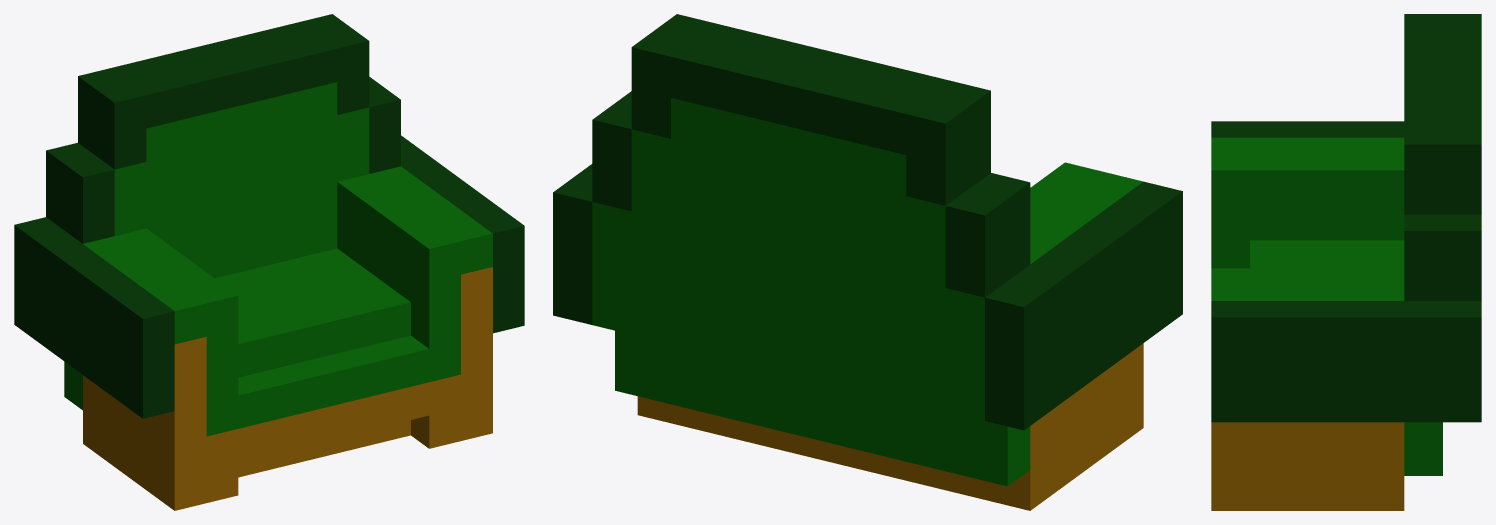
The model's file is Bank furnitures-2.obj.
3 renders of one model, left to right at view 1: azimuth 30°, elevation 25°; view 2: azimuth 150°, elevation 25°; view 3: azimuth 270°, elevation 25°, orthographic. The views are drawn at different scales.
Parts seen in each view (by area): view 1: Bank furnitures-2; view 2: Bank furnitures-2; view 3: Bank furnitures-2.
Part boxes in pixels (<box>): Bank furnitures-2: <box>14,14,524,510</box>; Bank furnitures-2: <box>553,14,1182,510</box>; Bank furnitures-2: <box>1211,14,1481,510</box>.
Bounding box in the file's own units: 12 × 10 × 7.
1 material, 1 textured.
